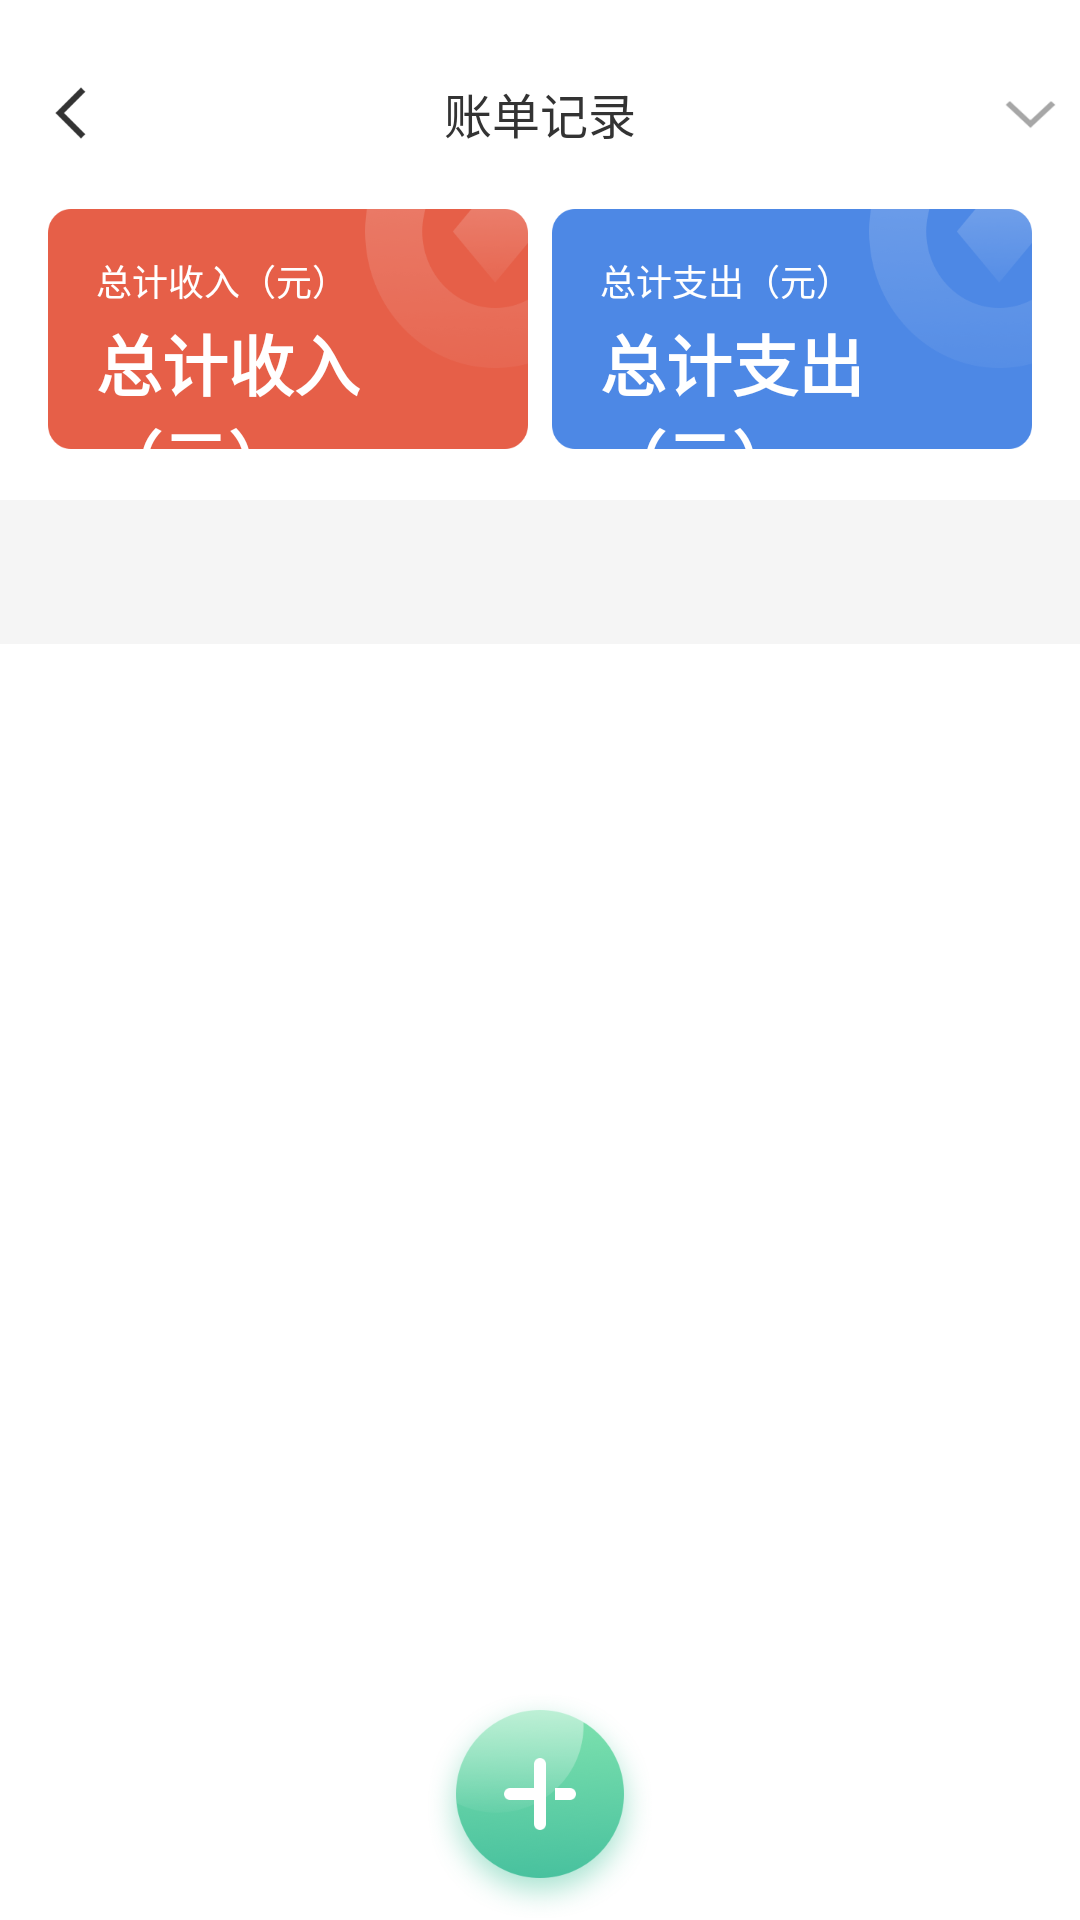

Named icons in this screenshot (1080×1920) and their bounding boxes, region(x1, y1, x2, y2):
return: region(55, 87, 86, 139)
